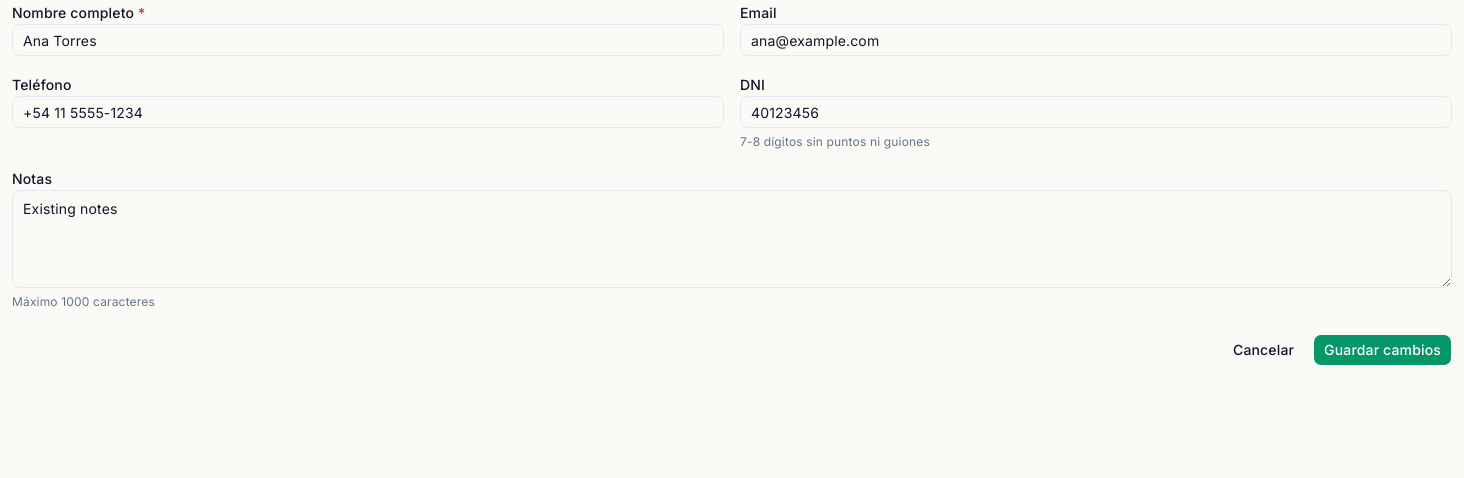
Scenario: PatientForm — client-side validation › shows 'El nombre es requerido' when fullName is cleared
Clear the field labelled "Nombre completo*" at (368, 40), box x1=12 y1=24 x2=724 y2=56
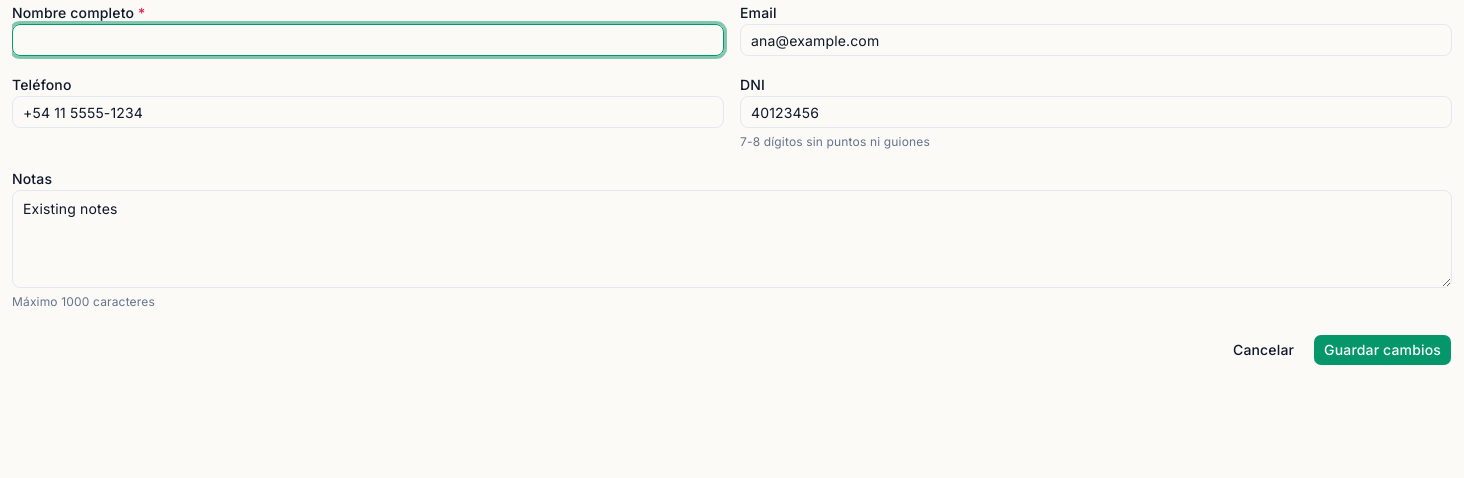
Click the button "Guardar cambios" at (1383, 350), box x1=1313 y1=334 x2=1452 y2=366
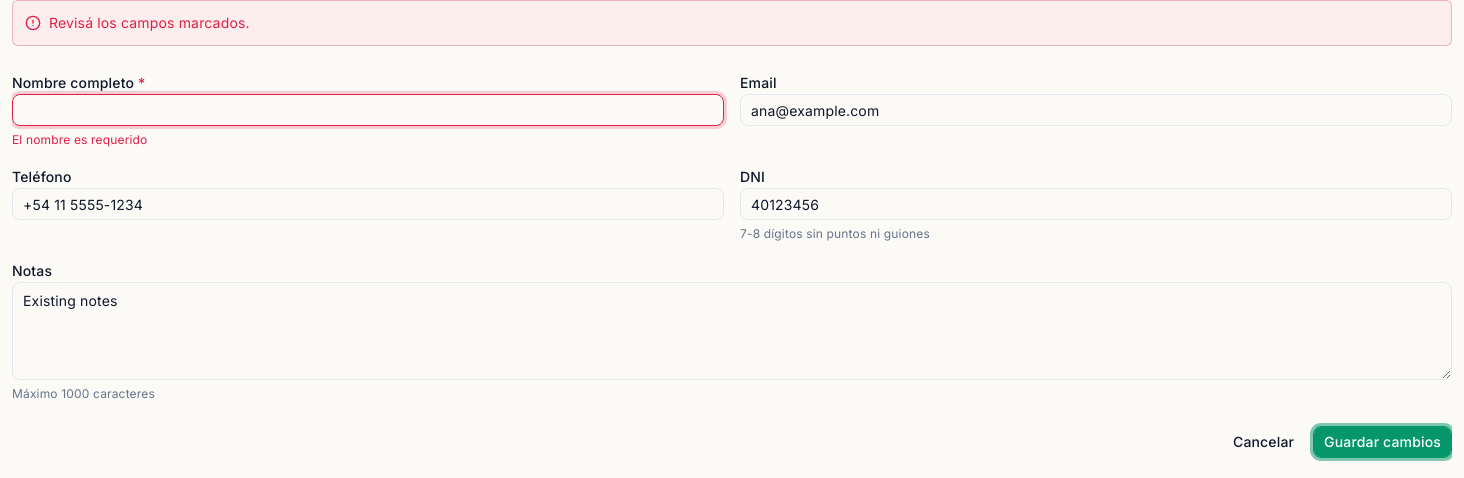
Now the text "El nombre es requerido" is shown, box x1=12 y1=132 x2=147 y2=147
